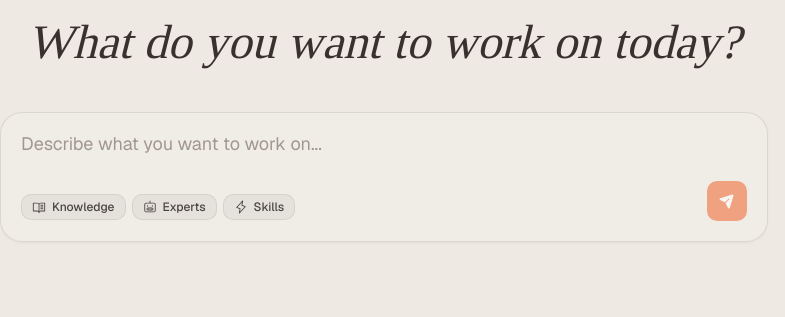
Scenario: DashboardHero › keeps send disabled until there is text or a selected context item
Expected: the button named "Start working" is disabled, [707,181,747,221]
Click the button "Skills".
click(259, 207)  # box [223,194,295,220]
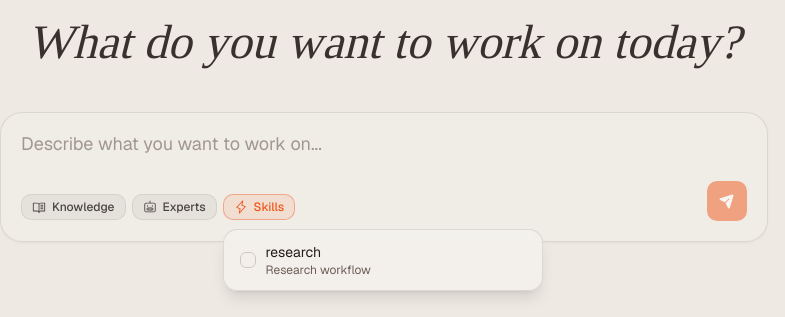
Click the menu item "research Research workflow".
click(293, 252)  # box [228,234,538,286]
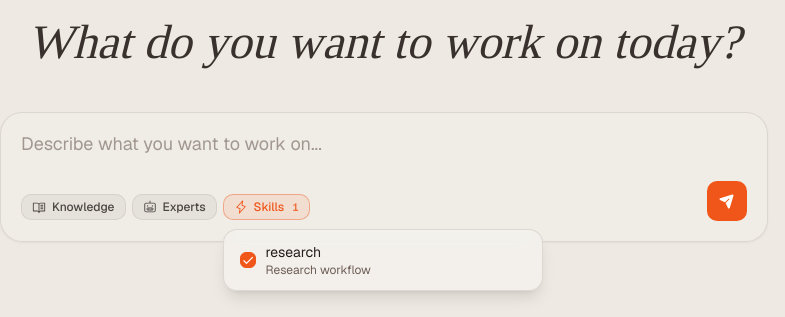
Expected: the button named "Start working" is enabled, [707,181,747,221]
